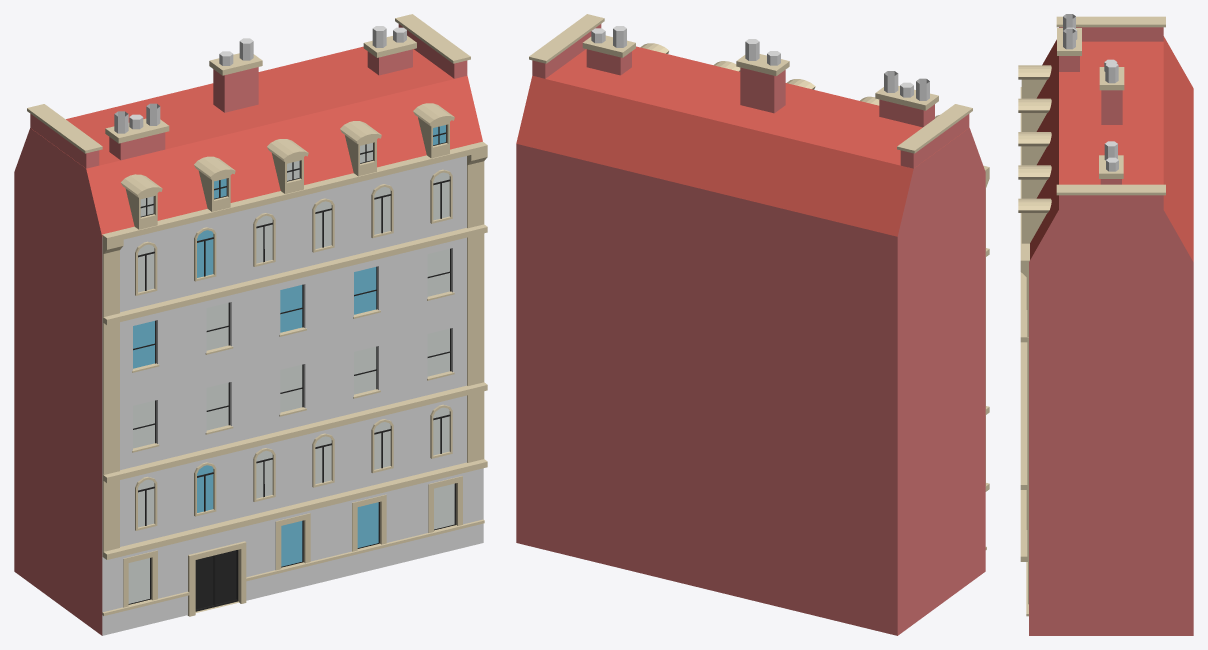
File: Bloc_14F.fbx
3 renders of one model, left to right at view 1: azimuth 30°, elevation 25°; view 2: azimuth 150°, elevation 25°; view 3: azimuth 270°, elevation 25°, orthographic. The views are drawn at different scales.
Parts seen in each view (by area): view 1: Bloc_14F; view 2: Bloc_14F; view 3: Bloc_14F.
Part boxes in pixels (x1,y1,x2,y2): Bloc_14F: (14, 14, 487, 635); Bloc_14F: (516, 14, 989, 635); Bloc_14F: (1018, 14, 1193, 635).
Bounding box in the file's own units: 638 × 1943 × 1517.
